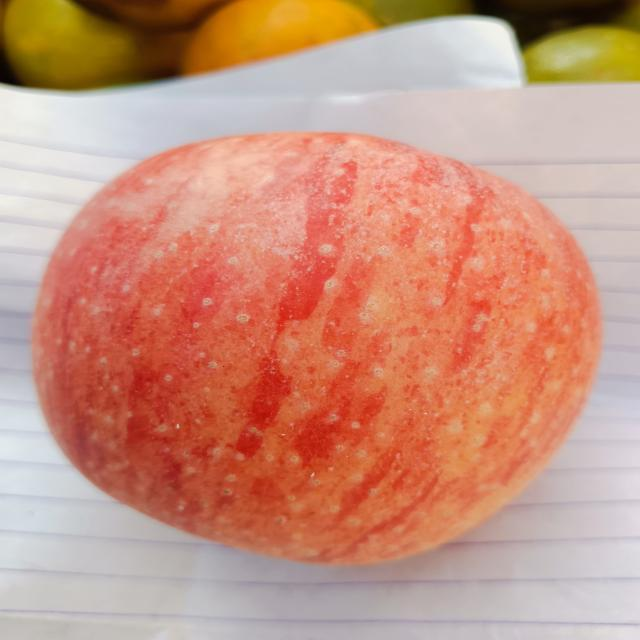Fresh Apple: (47, 134, 590, 558)
